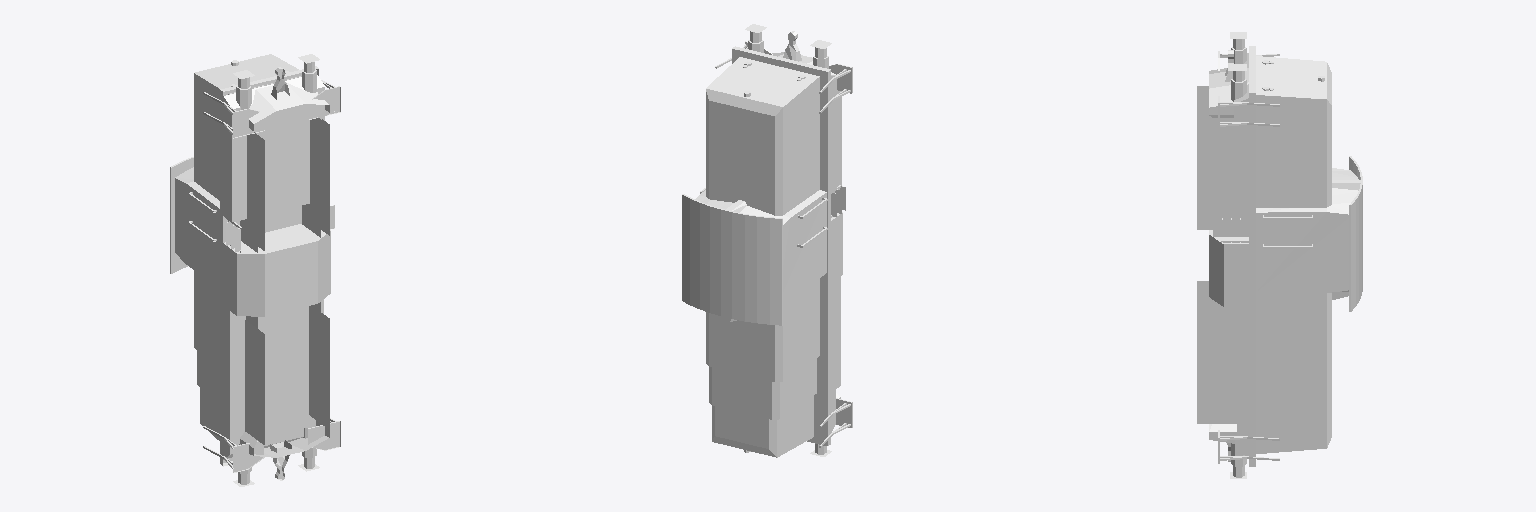
File: mozd02.obj
3 renders of one model, left to right at view 1: azimuth 30°, elevation 25°; view 2: azimuth 150°, elevation 25°; view 3: azimuth 270°, elevation 25°, orthographic.
Parts seen in each view (by area): view 1: Line02; view 2: Line02; view 3: Line02.
Boxes of the visible parts, <box> form: Line02: <box>170,54,340,486</box>; Line02: <box>682,24,852,457</box>; Line02: <box>1197,32,1362,478</box>.
Bounding box in the file's own units: 62.53 × 229 × 83.66.